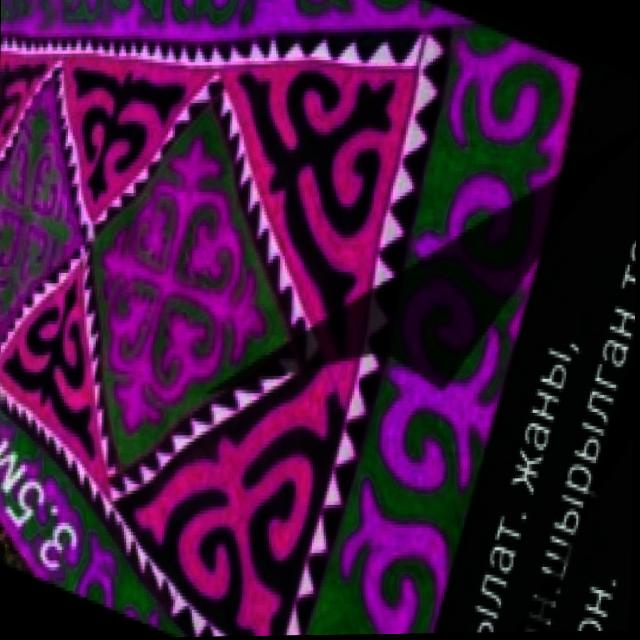Unity: (91, 130, 279, 443)
